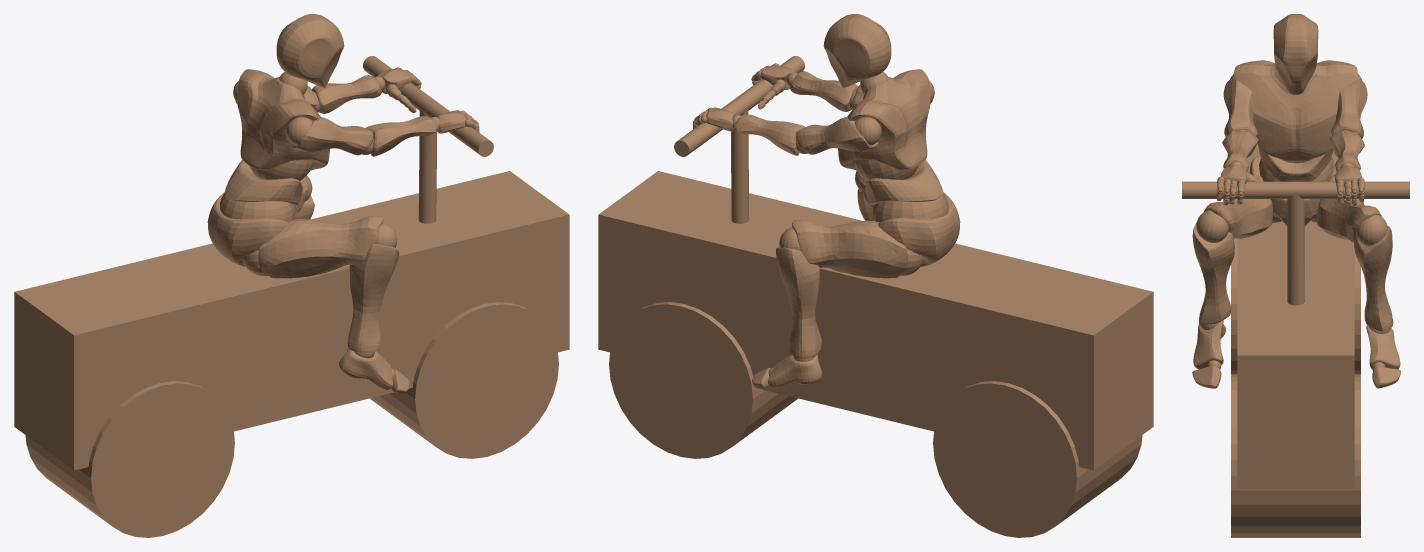
Rendered from two-wheel-motorcycle-variant.glb.
The picture shows the model from 3 angles, left to right: view 1: azimuth 30°, elevation 25°; view 2: azimuth 150°, elevation 25°; view 3: azimuth 270°, elevation 25°; orthographic projection.
Visible parts, largest first — view 1: xier120.two-wheel-motorcycle-variant.mesh.002, xier120.two-wheel-motorcycle-variant.mesh.000, xier120.two-wheel-motorcycle-variant.mesh.001, xier120.two-wheel-motorcycle-variant.mesh.003, xier120.two-wheel-motorcycle-variant.mesh.004; view 2: xier120.two-wheel-motorcycle-variant.mesh.002, xier120.two-wheel-motorcycle-variant.mesh.000, xier120.two-wheel-motorcycle-variant.mesh.001, xier120.two-wheel-motorcycle-variant.mesh.003, xier120.two-wheel-motorcycle-variant.mesh.004; view 3: xier120.two-wheel-motorcycle-variant.mesh.002, xier120.two-wheel-motorcycle-variant.mesh.000, xier120.two-wheel-motorcycle-variant.mesh.003, xier120.two-wheel-motorcycle-variant.mesh.001, xier120.two-wheel-motorcycle-variant.mesh.004.
Boxes of the visible parts, box(x1,y1,x2,y2) form: xier120.two-wheel-motorcycle-variant.mesh.002: box(14, 171, 569, 537); xier120.two-wheel-motorcycle-variant.mesh.000: box(207, 14, 479, 393); xier120.two-wheel-motorcycle-variant.mesh.001: box(220, 67, 479, 378); xier120.two-wheel-motorcycle-variant.mesh.003: box(363, 56, 493, 156); xier120.two-wheel-motorcycle-variant.mesh.004: box(418, 109, 437, 223); xier120.two-wheel-motorcycle-variant.mesh.002: box(598, 171, 1153, 537); xier120.two-wheel-motorcycle-variant.mesh.000: box(693, 14, 960, 388); xier120.two-wheel-motorcycle-variant.mesh.001: box(693, 63, 947, 376); xier120.two-wheel-motorcycle-variant.mesh.003: box(674, 56, 804, 156); xier120.two-wheel-motorcycle-variant.mesh.004: box(731, 109, 749, 223); xier120.two-wheel-motorcycle-variant.mesh.002: box(1231, 144, 1360, 537); xier120.two-wheel-motorcycle-variant.mesh.000: box(1192, 14, 1400, 388); xier120.two-wheel-motorcycle-variant.mesh.003: box(1182, 181, 1409, 198); xier120.two-wheel-motorcycle-variant.mesh.001: box(1196, 74, 1390, 370); xier120.two-wheel-motorcycle-variant.mesh.004: box(1287, 193, 1304, 305).
Bounding box in the file's own units: 2.03 × 1.76 × 0.8194.
